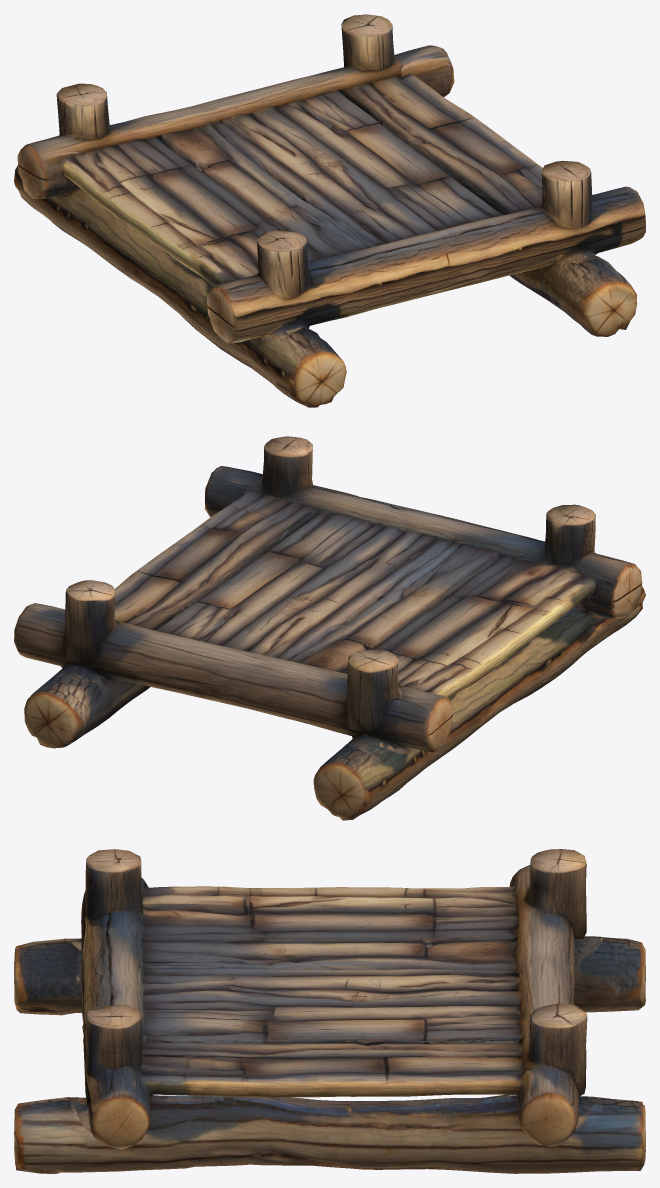
The model's file is bridge.glb.
3 renders of one model, top to bottom at view 1: azimuth 30°, elevation 25°; view 2: azimuth 150°, elevation 25°; view 3: azimuth 270°, elevation 25°, orthographic. The views are drawn at different scales.
Size of the model in its own units: 1.71 by 0.5342 by 2.01.
Materials: 1 (1 with a texture image).
